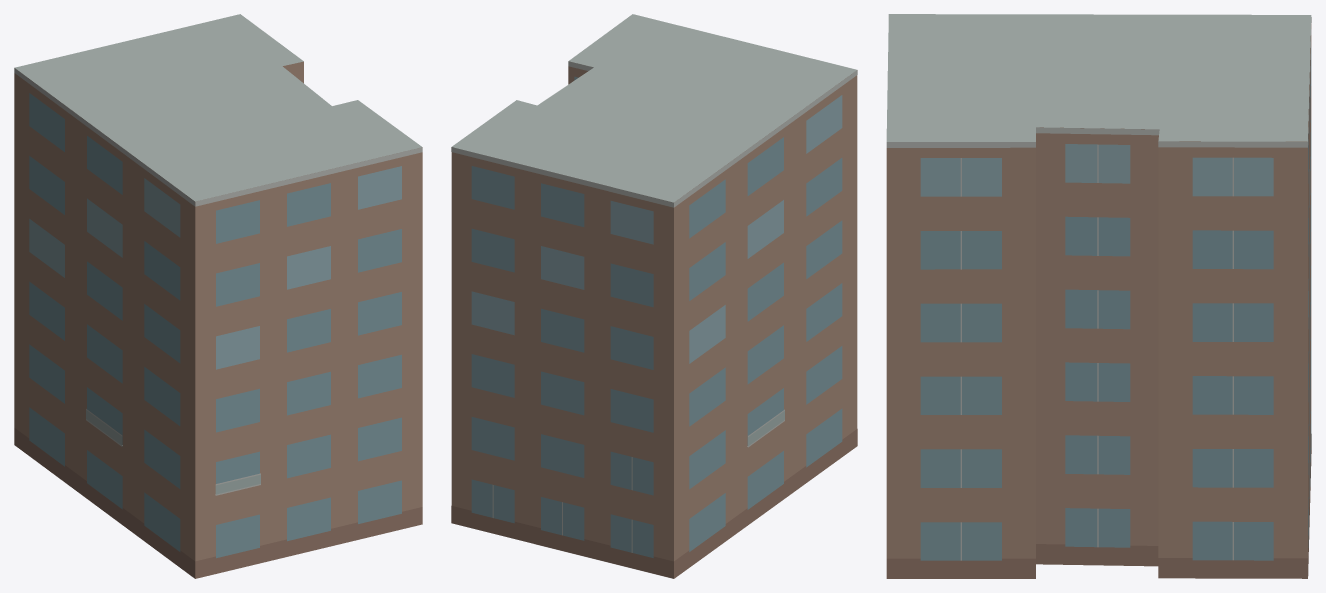
File: survey-upis-32967622.glb
3 views of the same model, side by side, from view 1: azimuth 30°, elevation 25°; view 2: azimuth 150°, elevation 25°; view 3: azimuth 270°, elevation 25° (orthographic). The views are drawn at different scales.
Parts seen in each view (by area): view 1: survey-upis-32967622.tmp; view 2: survey-upis-32967622.tmp; view 3: survey-upis-32967622.tmp.
Boxes of the visible parts, x1,y1,x2,y2 form: survey-upis-32967622.tmp: [14, 14, 422, 578]; survey-upis-32967622.tmp: [451, 14, 857, 578]; survey-upis-32967622.tmp: [886, 14, 1311, 578].
Size of the model in its own units: 11.32 by 18 by 15.87.
